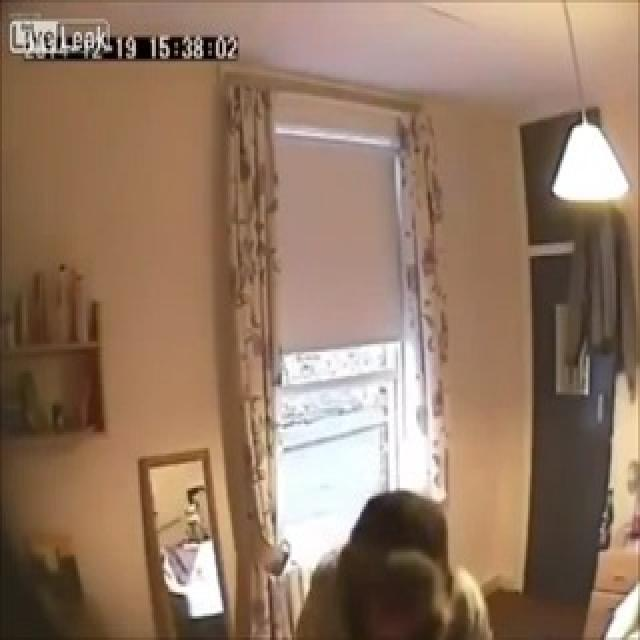thief: (330, 487, 458, 640)
